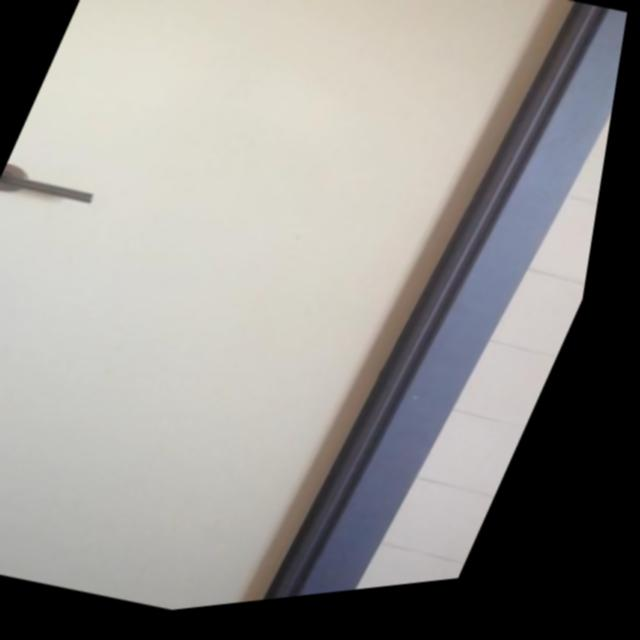door_handle: (0, 159, 112, 218)
